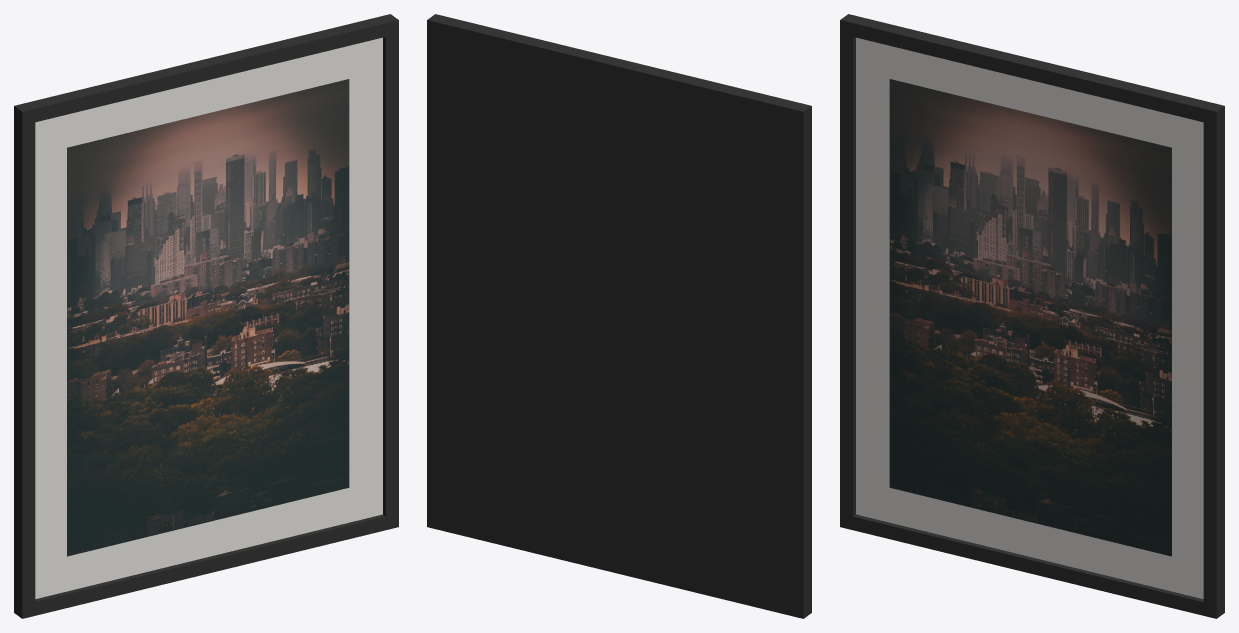
The model's file is skyline-dis-60.gltf.
3 renders of one model, left to right at view 1: azimuth 30°, elevation 25°; view 2: azimuth 150°, elevation 25°; view 3: azimuth 330°, elevation 25°, orthographic.
Visible parts, largest first — view 1: tavla; view 2: tavla; view 3: tavla.
Part boxes in pixels (x1,y1,x2,y2): tavla: (14, 14, 398, 618); tavla: (427, 14, 811, 618); tavla: (840, 14, 1224, 618).
Bounding box in the file's own units: 0.5782 × 0.7442 × 0.022.
Materials: 3 (1 with a texture image).
